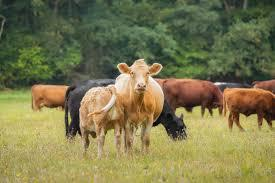cow: (65, 79, 188, 150), (114, 59, 164, 158), (79, 83, 125, 162), (157, 79, 224, 118), (224, 87, 275, 132), (31, 84, 70, 112), (214, 82, 252, 93), (252, 80, 275, 94)
